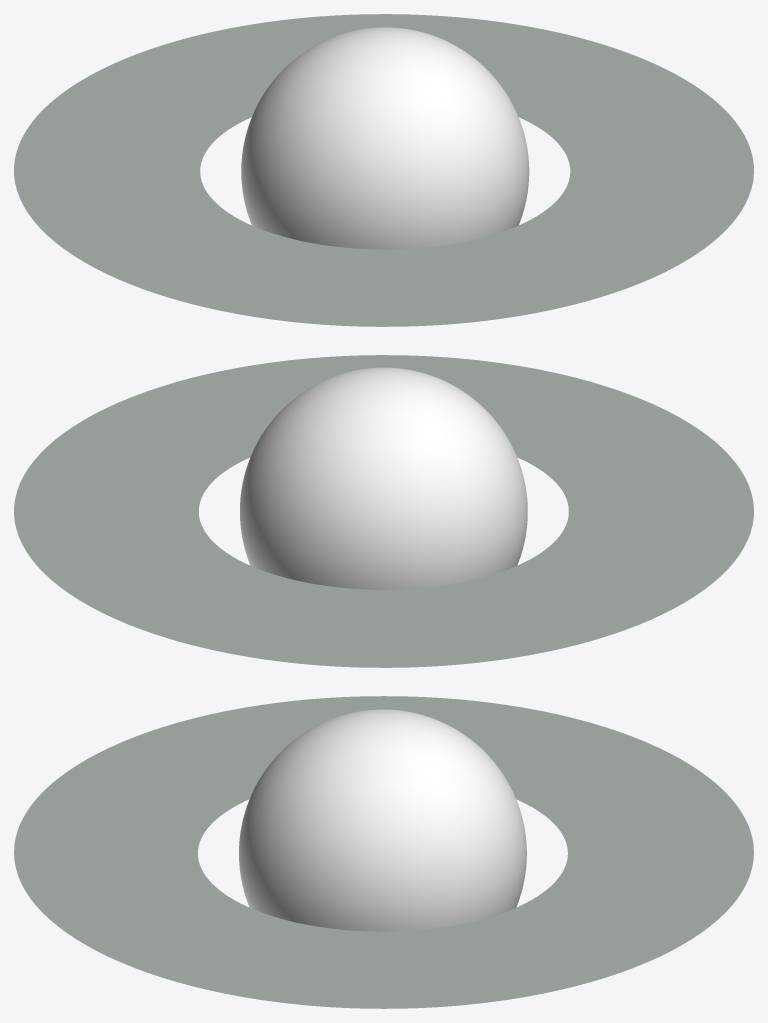
File: saturn.glb
3 renders of one model, top to bottom at view 1: azimuth 30°, elevation 25°; view 2: azimuth 150°, elevation 25°; view 3: azimuth 270°, elevation 25°, orthographic.
Parts seen in each view (by area): view 1: Circle, Cube; view 2: Circle, Cube; view 3: Circle, Cube.
Boxes of the visible parts, x1,y1,x2,y2 form: Circle: [14, 14, 753, 326]; Cube: [241, 27, 529, 249]; Circle: [14, 355, 753, 667]; Cube: [240, 367, 527, 589]; Circle: [14, 696, 753, 1008]; Cube: [239, 709, 526, 931].
Size of the model in its own units: 4.4 by 1.71 by 4.4.
2 materials, 1 textured.
